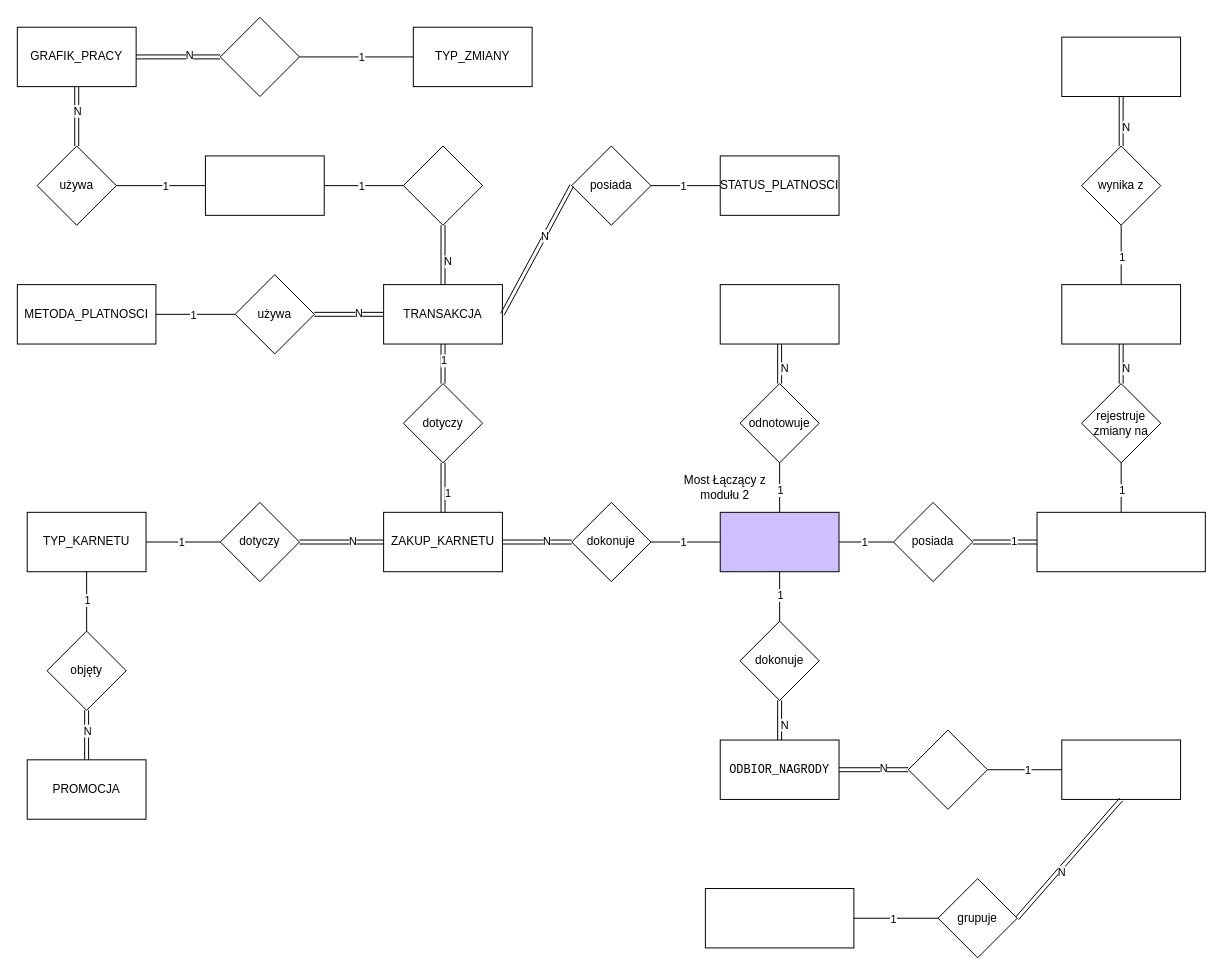
This 1223x975 diagram has some shape labels left out. The shapes that lost their labels are listed below. From the top down, each one's centre as x and y in pixels, then its label:
point (259, 56): definiuje
point (1121, 66): ZRODLO_PUNKTOW
point (264, 185): PRACOWNIK
point (442, 185): obsługuje
point (779, 314): LOG_WEJSCIA
point (1121, 314): LOG_PUNKTOW
point (779, 541): KLIENT
point (1120, 541): KARTA_LOJALNOSCIOWA
point (947, 769): wydana
point (1121, 769): NAGRODA
point (779, 918): KATEGORIA_NAGRODY
